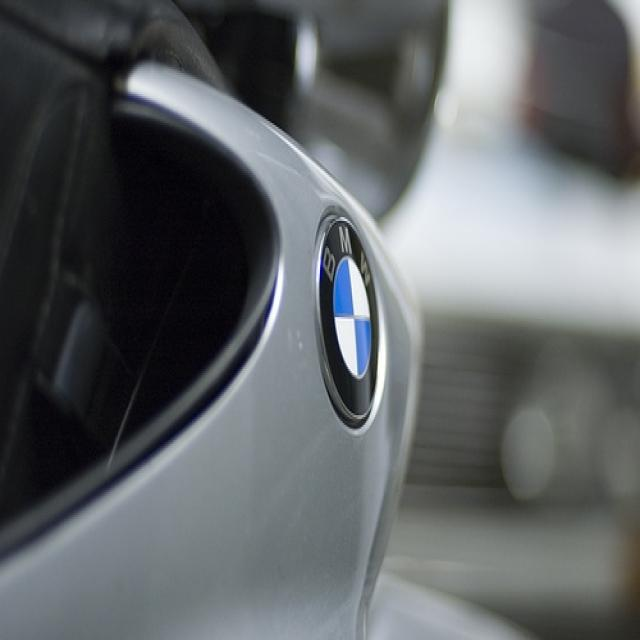bmw: (313, 213, 384, 430)
